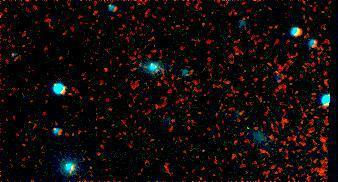star: (88, 52, 118, 82)
